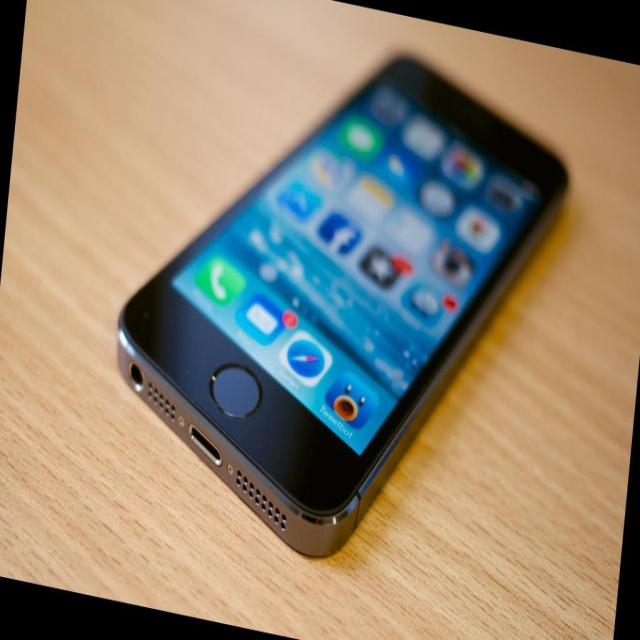handphone: (128, 63, 557, 544)
